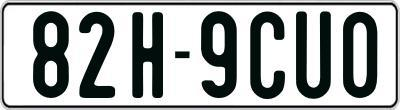0: (343, 11, 382, 99)
2: (79, 11, 117, 98)
8: (31, 10, 69, 103)
9: (200, 9, 242, 100)
C: (247, 11, 282, 102)
H: (131, 9, 162, 98)
U: (294, 9, 329, 100)
